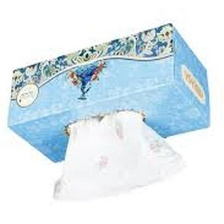book: (3, 20, 214, 166)
tissue: (50, 106, 190, 207)
